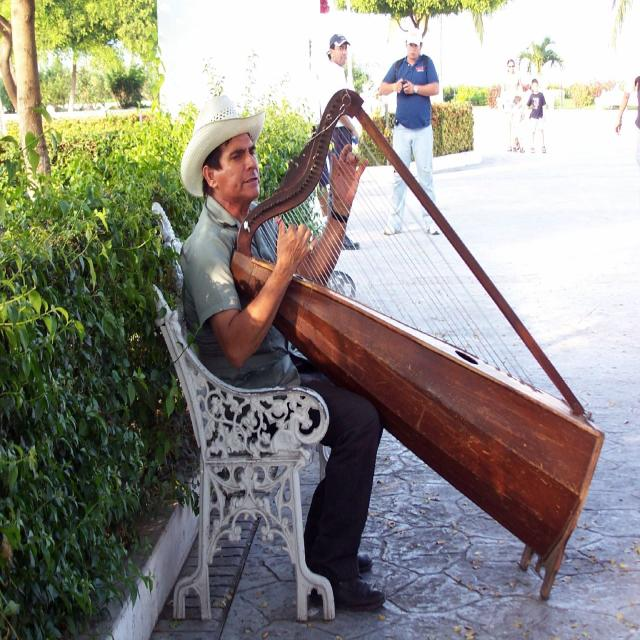harp: (230, 88, 608, 602)
